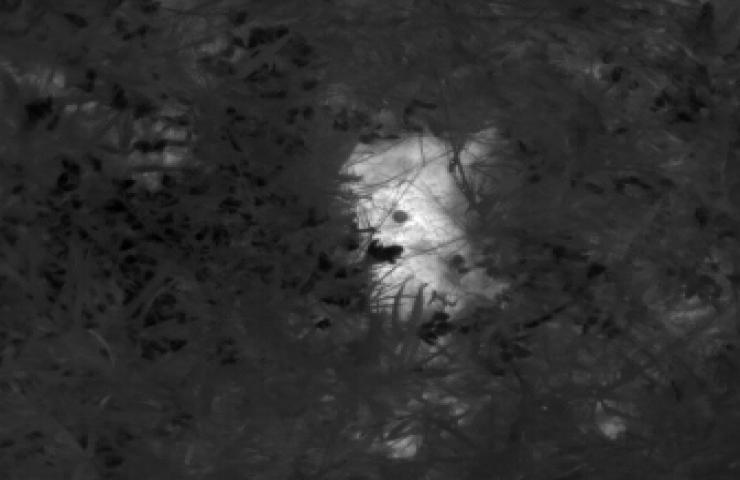landmines: (338, 125, 528, 329)
